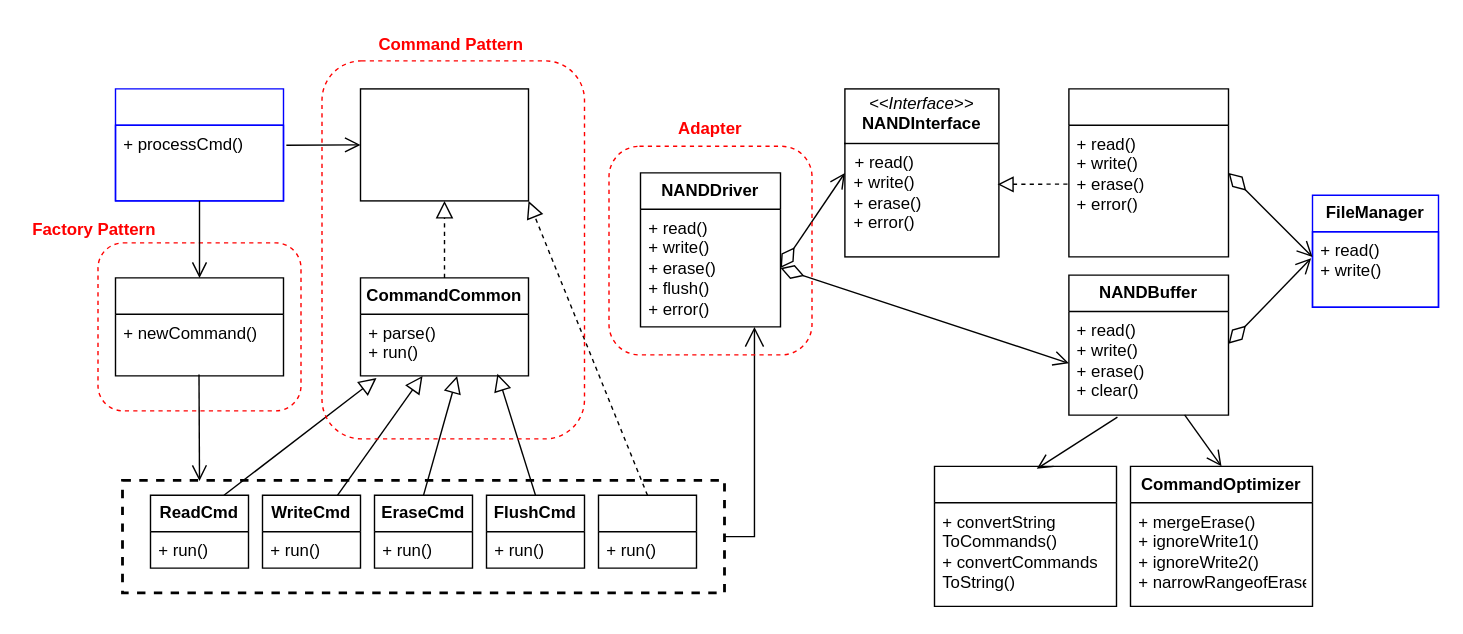
The diagram is 1463 pixels wide and 634 high, and some of its shapes have lost their labels. Each missing label, with the box of its shape:
<<Interface>> Command + run(): (359, 88, 528, 201)
CommandConverter: (933, 465, 1116, 606)
CommandFactory: (114, 276, 284, 376)
ErrorCmd: (597, 494, 696, 568)
HostInterface: (114, 88, 284, 201)
NAND: (1068, 88, 1228, 257)
